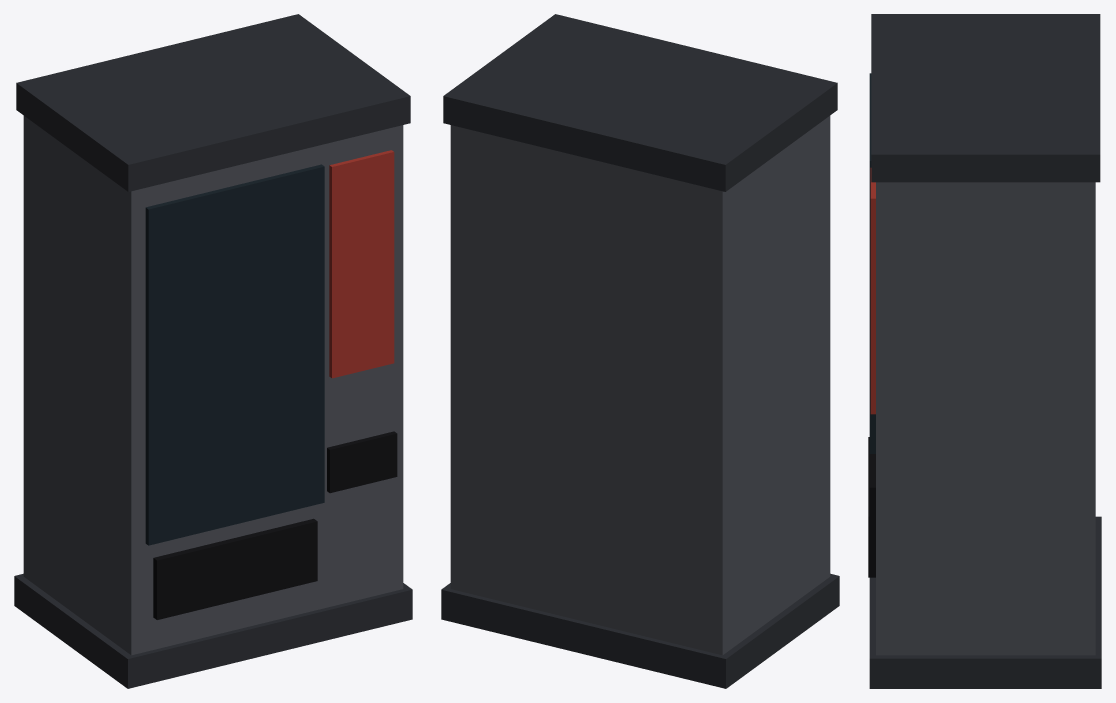
Rendered from Prop_VendingMachine.obj.
The picture shows the model from 3 angles, left to right: view 1: azimuth 30°, elevation 25°; view 2: azimuth 150°, elevation 25°; view 3: azimuth 270°, elevation 25°; orthographic projection. The views are drawn at different scales.
Parts seen in each view (by area): view 1: Prop_VendingMachine; view 2: Prop_VendingMachine; view 3: Prop_VendingMachine.
Part boxes in pixels (<box>): Prop_VendingMachine: <box>14,14,412,688</box>; Prop_VendingMachine: <box>441,14,839,688</box>; Prop_VendingMachine: <box>868,14,1101,688</box>.
Size of the model in its own units: 1.1 by 1.93 by 0.765.
